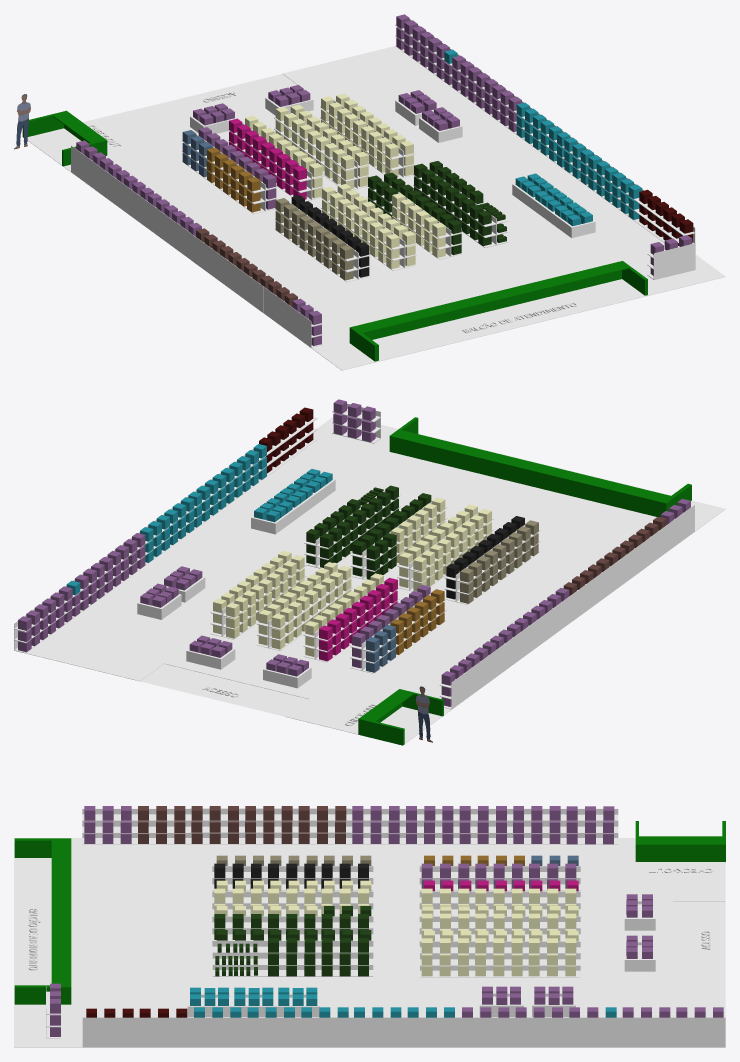
File: Loja_camacho.dae
3 renders of one model, top to bottom at view 1: azimuth 30°, elevation 25°; view 2: azimuth 150°, elevation 25°; view 3: azimuth 270°, elevation 25°, orthographic. The views are drawn at different scales.
Parts seen in each view (by area): view 1: SketchUp, Group_3 (×11), BALCAO, Group_7, CHECK_OUT; view 2: SketchUp, BALCAO, Group_3 (×10), Group_7, CHECK_OUT, Group_5 (×3), ILHA_3; view 3: SketchUp, Group_3 (×13), BALCAO, Group_7, CHECK_OUT, Group_5 (×2).
Boxes of the visible parts, bbox=[...] form: SketchUp: bbox=[27, 46, 725, 370]; Group_3 (×11): bbox=[71, 145, 695, 347]; BALCAO: bbox=[349, 261, 647, 361]; Group_7: bbox=[140, 74, 304, 125]; CHECK_OUT: bbox=[22, 110, 107, 166]; SketchUp: bbox=[15, 417, 725, 743]; BALCAO: bbox=[389, 417, 691, 516]; Group_3 (×10): bbox=[451, 505, 694, 709]; Group_7: bbox=[140, 663, 308, 716]; CHECK_OUT: bbox=[358, 689, 443, 745]; Group_5 (×3): bbox=[186, 508, 311, 688]; ILHA_3: bbox=[137, 594, 181, 619]; SketchUp: bbox=[14, 838, 725, 1047]; Group_3 (×13): bbox=[82, 940, 725, 1047]; BALCAO: bbox=[14, 838, 71, 1004]; Group_7: bbox=[673, 901, 725, 979]; CHECK_OUT: bbox=[635, 821, 725, 861]; Group_5 (×2): bbox=[624, 900, 655, 971].
Bounding box in the file's own units: 561 × 769 × 70.5.
